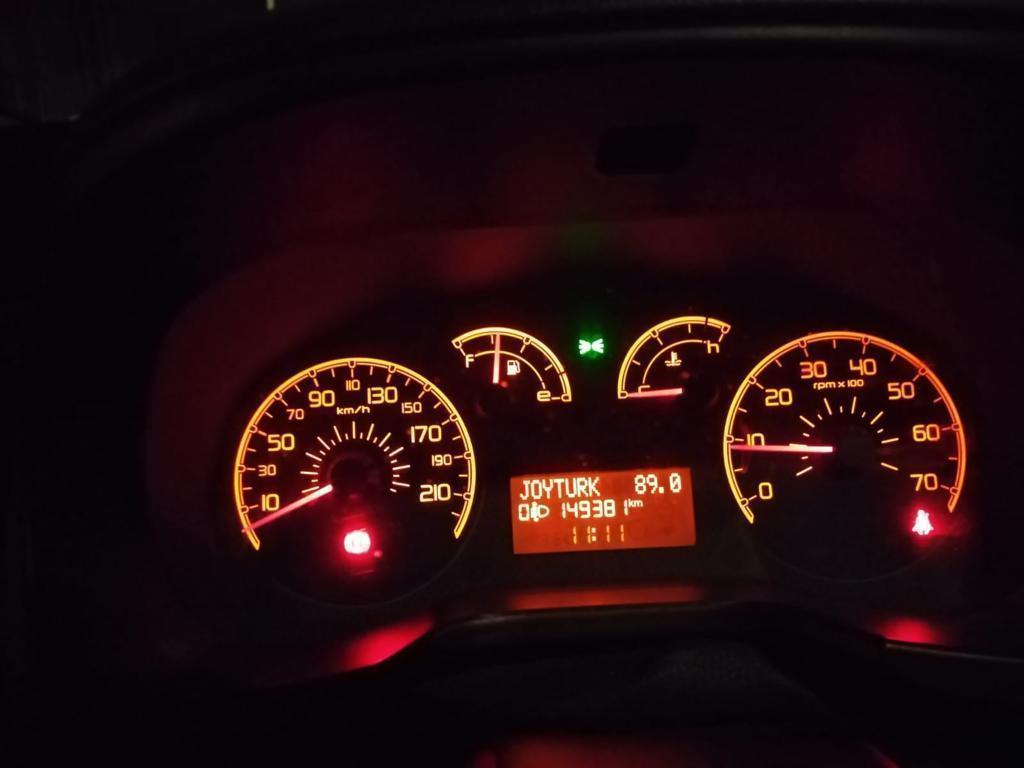,: (658, 486, 664, 494)
0: (668, 472, 681, 493), (517, 502, 530, 521)
1: (571, 525, 577, 544), (560, 501, 566, 519), (622, 499, 628, 516), (619, 523, 624, 542), (605, 524, 610, 543), (586, 525, 591, 544)
3: (591, 499, 603, 518)
4: (566, 501, 578, 518)
8: (633, 473, 646, 494), (603, 499, 616, 517)
9: (578, 499, 591, 519), (646, 473, 658, 494)
X: (530, 479, 543, 500), (564, 477, 577, 498), (541, 478, 553, 499), (552, 478, 564, 499), (576, 477, 588, 498), (588, 475, 600, 496), (519, 479, 530, 500), (591, 527, 597, 542), (633, 499, 643, 507), (628, 498, 633, 507)
odometer: (508, 465, 698, 557)
